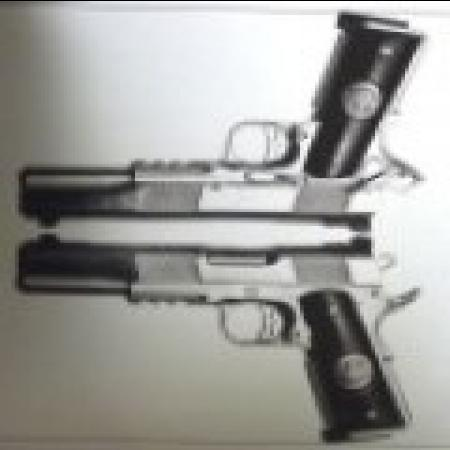Pistol: (23, 25, 442, 228)
